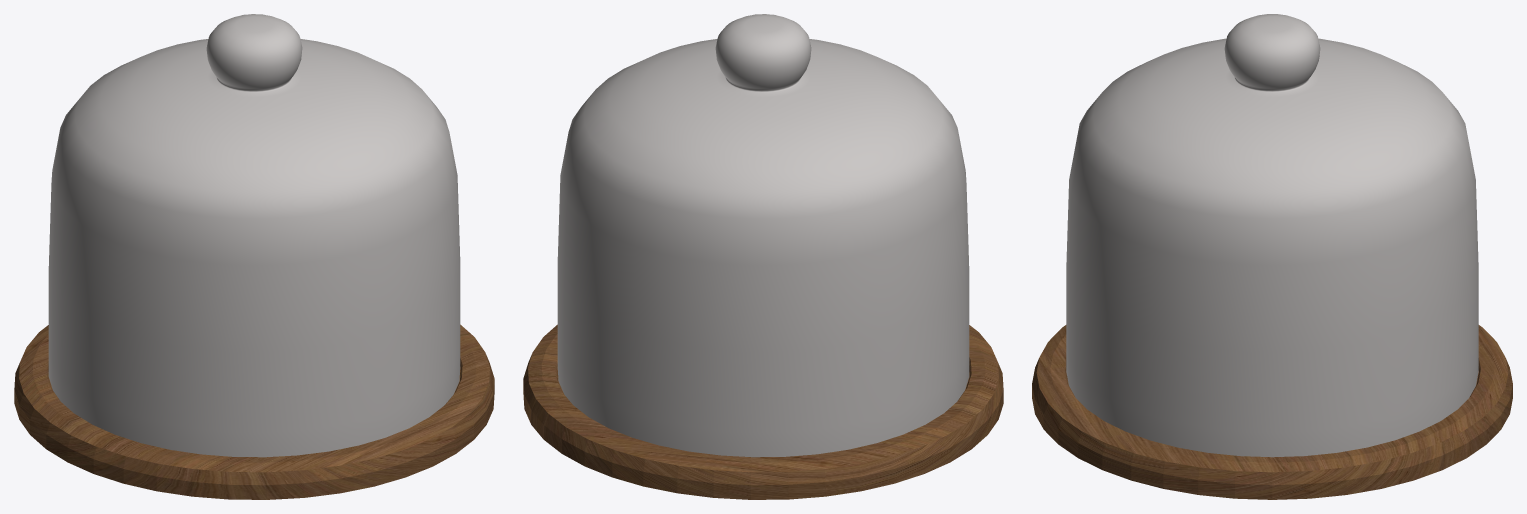
File: dome.fbx
3 views of the same model, side by side, from view 1: azimuth 30°, elevation 25°; view 2: azimuth 150°, elevation 25°; view 3: azimuth 270°, elevation 25° (orthographic).
Visible parts, largest first — view 1: tuopan1; view 2: tuopan1; view 3: tuopan1.
Boxes of the visible parts, x1=… form: tuopan1: x1=14, y1=14, x2=494, y2=499; tuopan1: x1=523, y1=14, x2=1003, y2=499; tuopan1: x1=1032, y1=14, x2=1512, y2=499.
Size of the model in its own units: 49.71 by 42.75 by 49.71.
